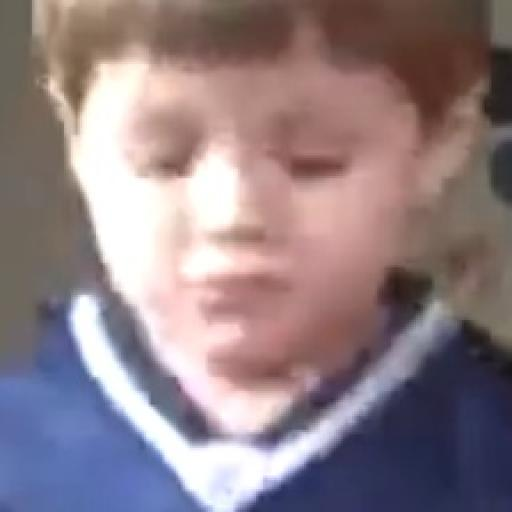Autism: (54, 8, 483, 458)
